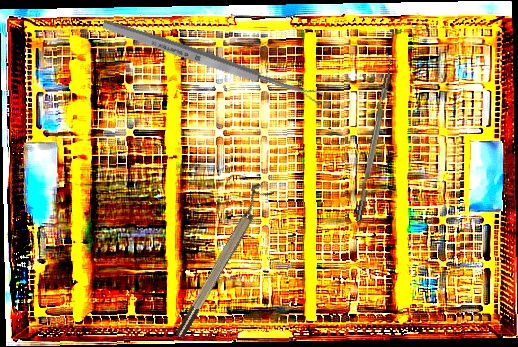Chopper: (347, 52, 397, 222)
Fixation Ring: (166, 179, 276, 341)
Surgical Spoon: (100, 16, 325, 107)
